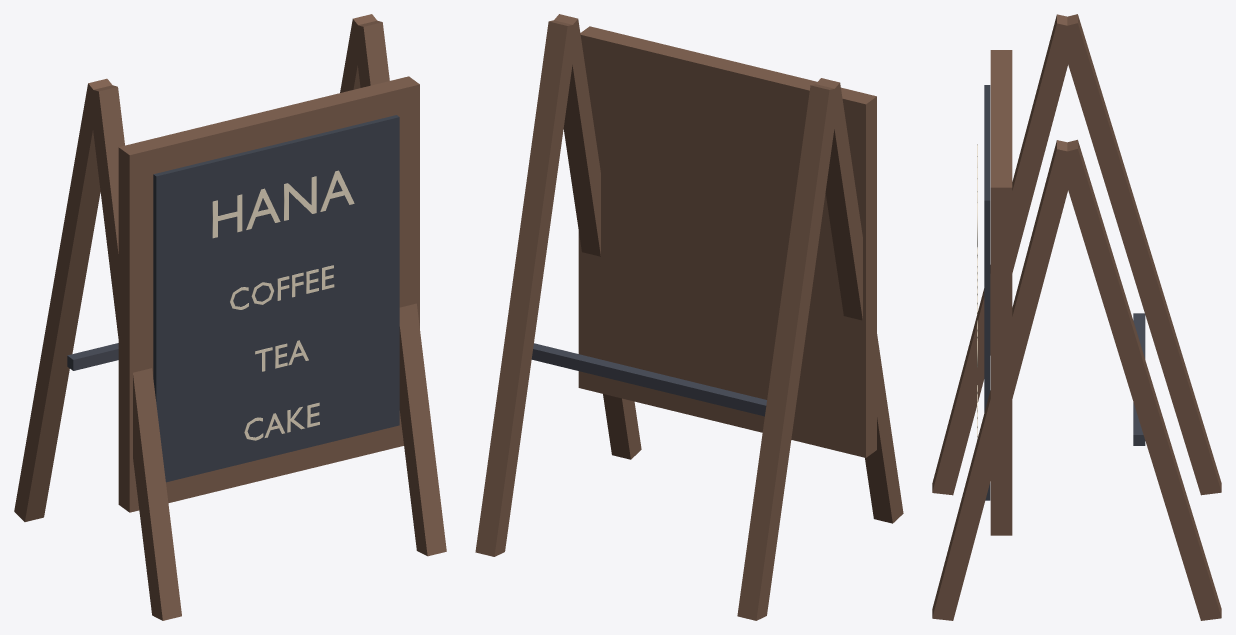
Rendered from SM_Cafe_MenuBoard.fbx.
3 renders of one model, left to right at view 1: azimuth 30°, elevation 25°; view 2: azimuth 150°, elevation 25°; view 3: azimuth 270°, elevation 25°, orthographic. The views are drawn at different scales.
Parts seen in each view (by area): view 1: SM_Cafe_MenuBoard; view 2: SM_Cafe_MenuBoard; view 3: SM_Cafe_MenuBoard.
Part boxes in pixels (left/top/right/bottom): SM_Cafe_MenuBoard: left=14, top=14, right=446, bottom=620; SM_Cafe_MenuBoard: left=475, top=14, right=903, bottom=620; SM_Cafe_MenuBoard: left=932, top=14, right=1221, bottom=620.
Bounding box in the file's own units: 0.68 × 0.6036 × 1.09.
